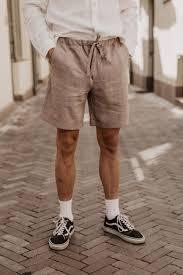short: (42, 32, 135, 130)
